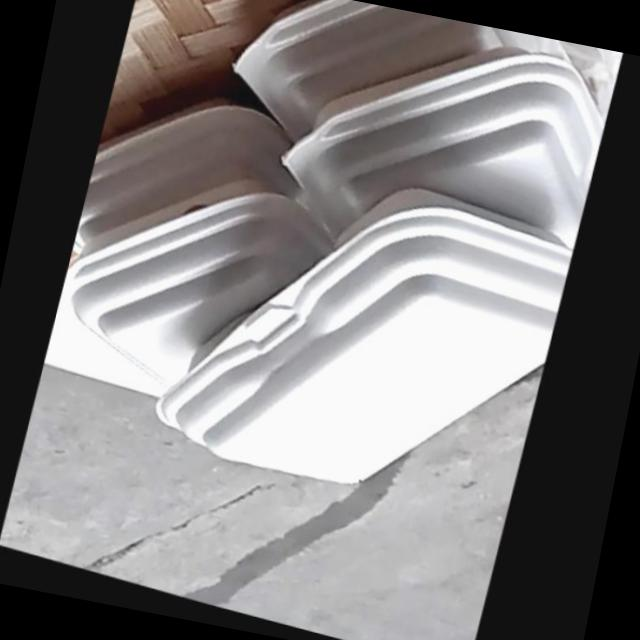xop: (158, 188, 576, 485), (281, 52, 606, 250), (67, 187, 339, 397), (232, 0, 567, 146), (73, 109, 302, 261)
